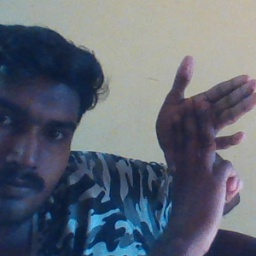M: (149, 53, 256, 184)
